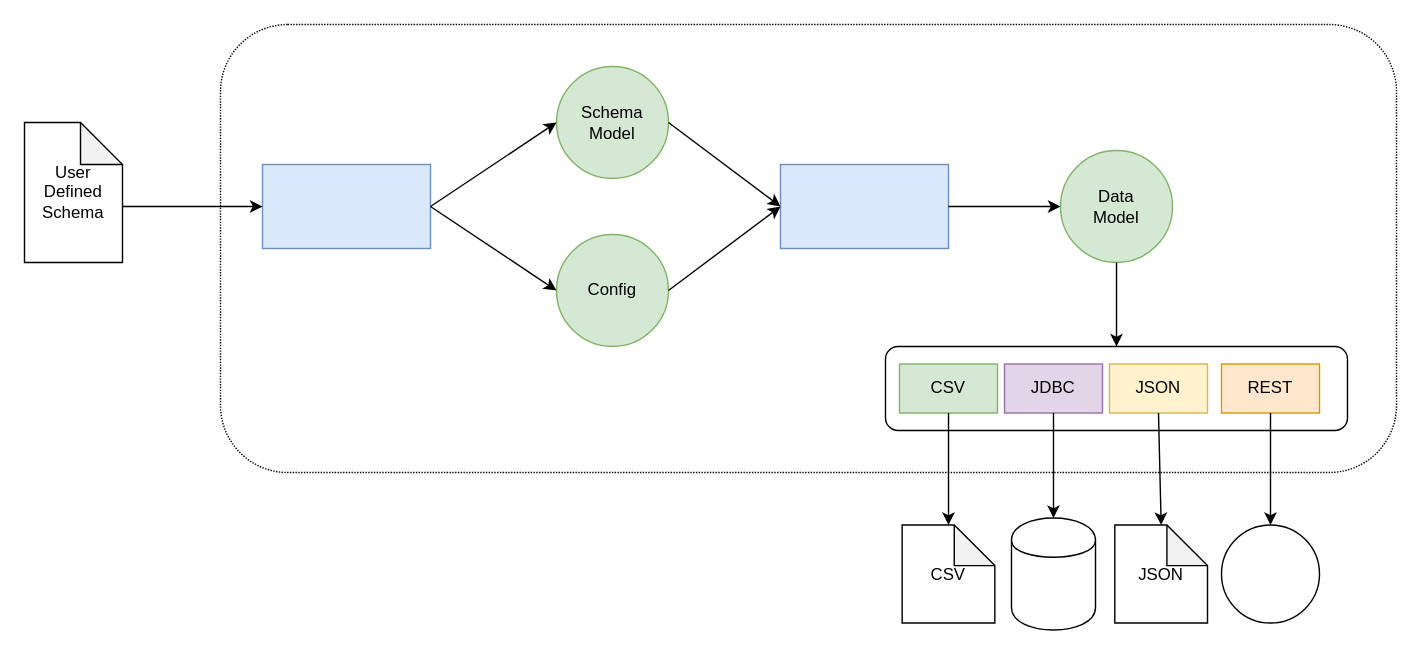
Image size: 1421x655. Some labels were removed from this diagram. The shapes that lost their labels are listed below. From the top down, each one's centre as x and y in pixels, then its label:
(x=345, y=205): SchemaParser
(x=863, y=205): Generation Engine
(x=1053, y=573): DB
(x=1270, y=573): Endpoint
